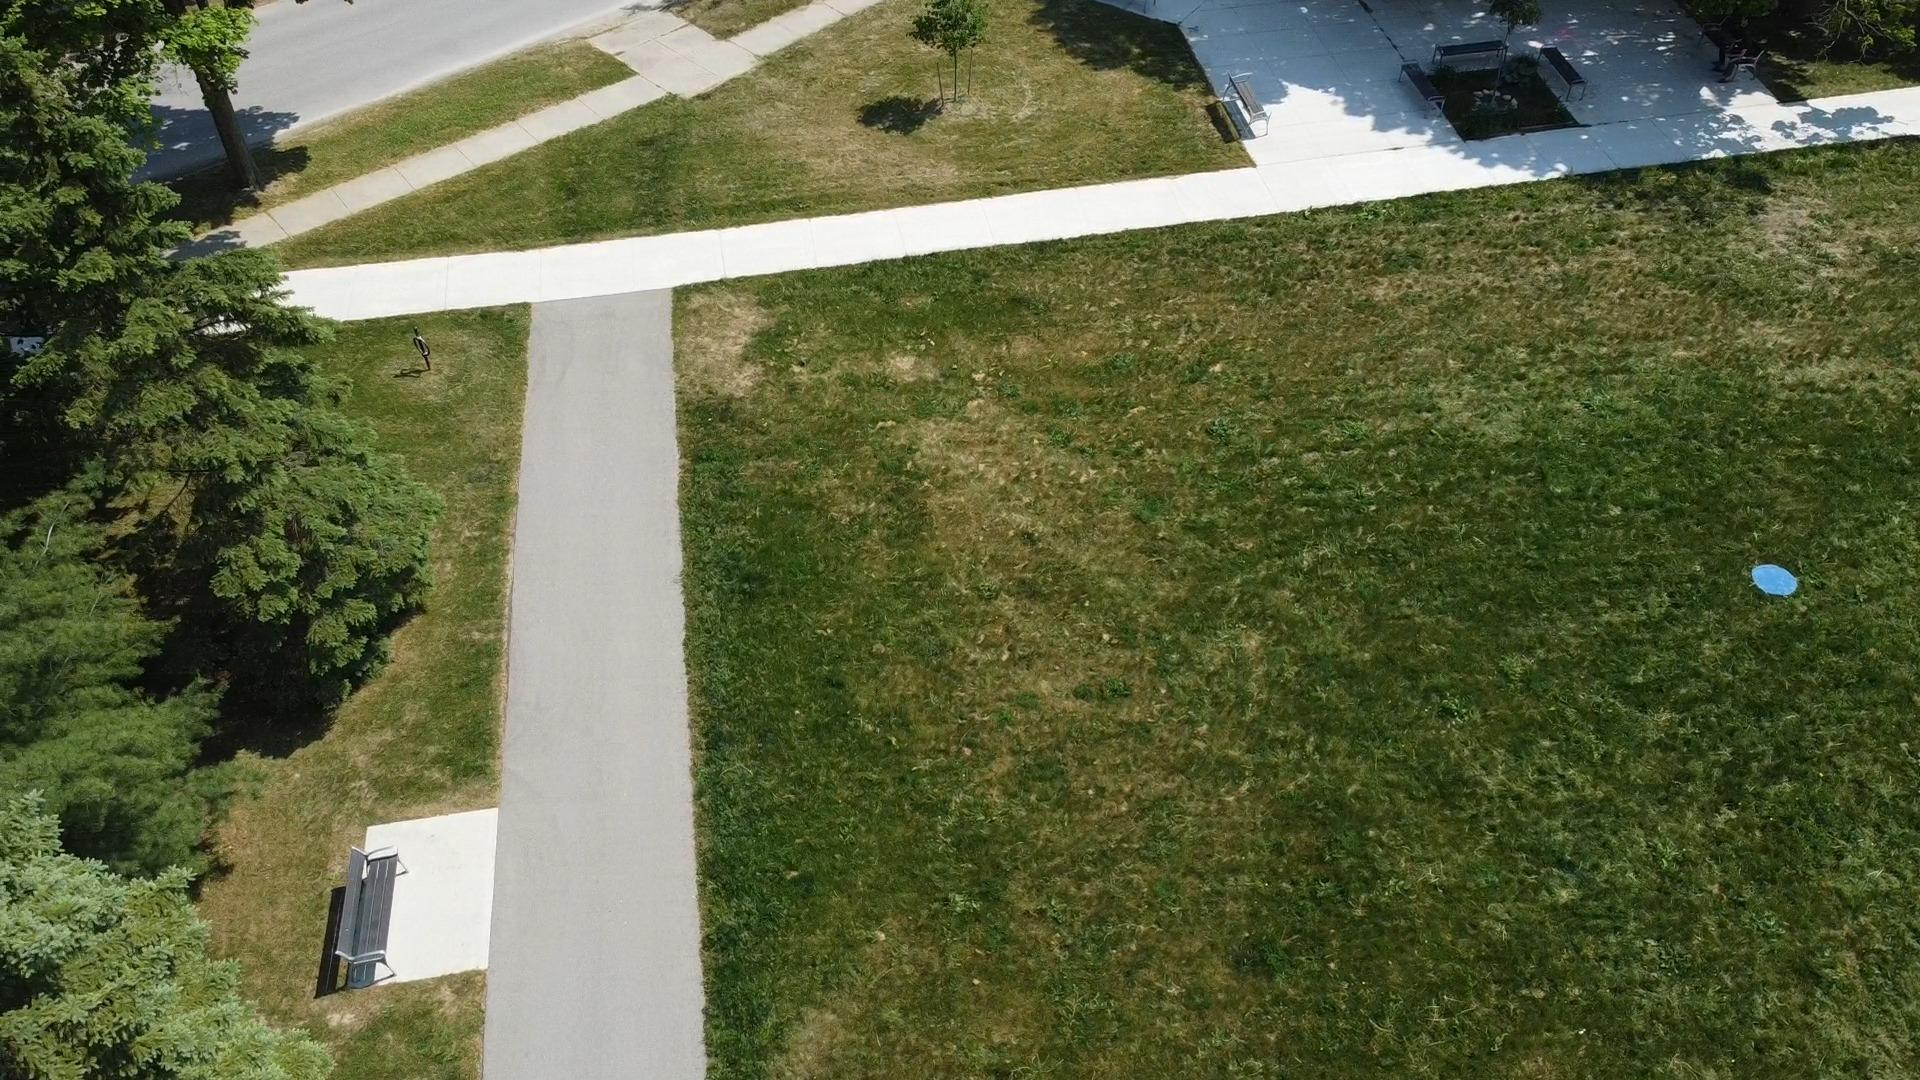Blue: (1750, 560, 1799, 596)
